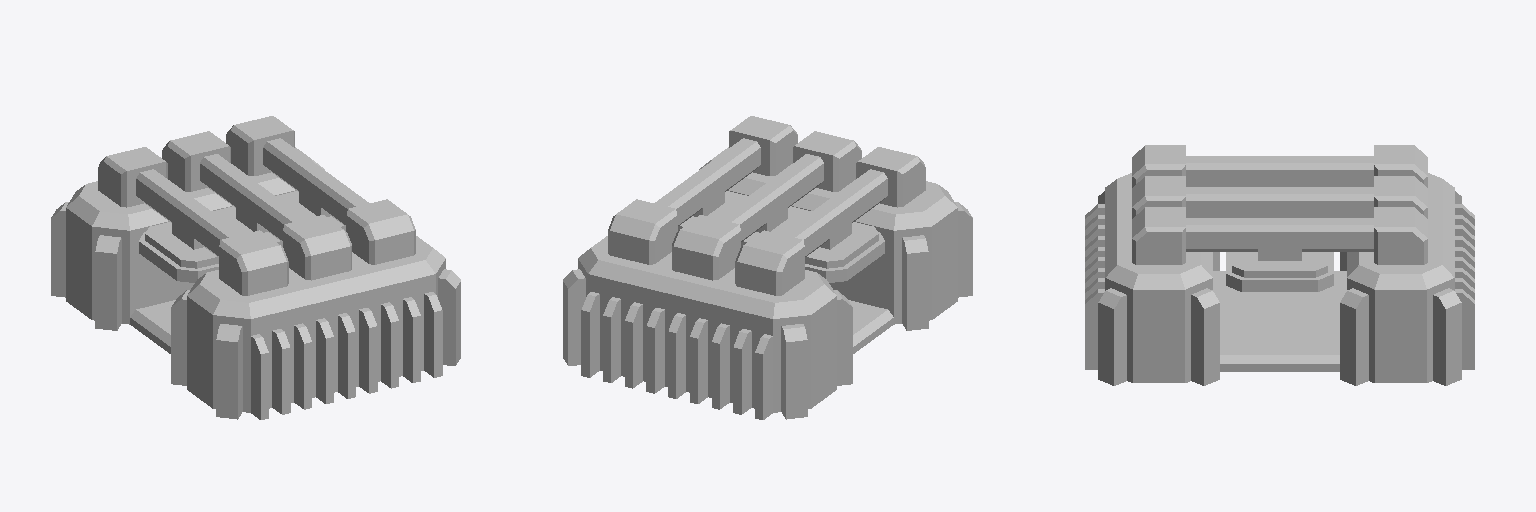
The model's file is antivirus.obj.
The picture shows the model from 3 angles: view 1: azimuth 30°, elevation 25°; view 2: azimuth 150°, elevation 25°; view 3: azimuth 270°, elevation 25°; orthographic projection.
Parts seen in each view (by area): view 1: Plane_low, Plane.001_low, Cube_low, Plane.002_low, Plane.003_low, Plane.004_low; view 2: Plane_low, Plane.001_low, Cube_low, Plane.002_low, Plane.003_low, Plane.004_low; view 3: Plane_low, Plane.002_low, Plane.001_low, Plane.004_low, Cube_low, Plane.003_low.
Part boxes in pixels (bbox=[...]): Plane_low: bbox=[51, 147, 460, 419]; Plane.001_low: bbox=[98, 116, 415, 295]; Cube_low: bbox=[251, 292, 442, 419]; Plane.002_low: bbox=[136, 138, 369, 256]; Plane.003_low: bbox=[139, 191, 345, 282]; Plane.004_low: bbox=[130, 300, 175, 353]; Plane_low: bbox=[563, 147, 972, 419]; Plane.001_low: bbox=[608, 116, 925, 295]; Cube_low: bbox=[581, 292, 772, 419]; Plane.002_low: bbox=[654, 138, 887, 256]; Plane.003_low: bbox=[678, 191, 884, 282]; Plane.004_low: bbox=[848, 300, 893, 353]; Plane_low: bbox=[1098, 173, 1461, 385]; Plane.002_low: bbox=[1186, 156, 1373, 260]; Plane.001_low: bbox=[1132, 145, 1427, 264]; Plane.004_low: bbox=[1213, 271, 1346, 371]; Cube_low: bbox=[1085, 204, 1474, 369]; Plane.003_low: bbox=[1226, 252, 1333, 291].
Size of the model in its own units: 5.25 by 2.89 by 7.23.